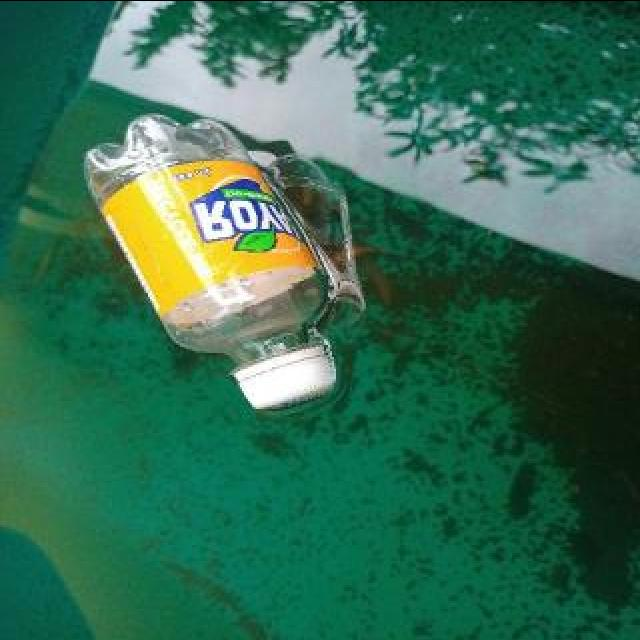Bottle: (74, 100, 360, 432)
